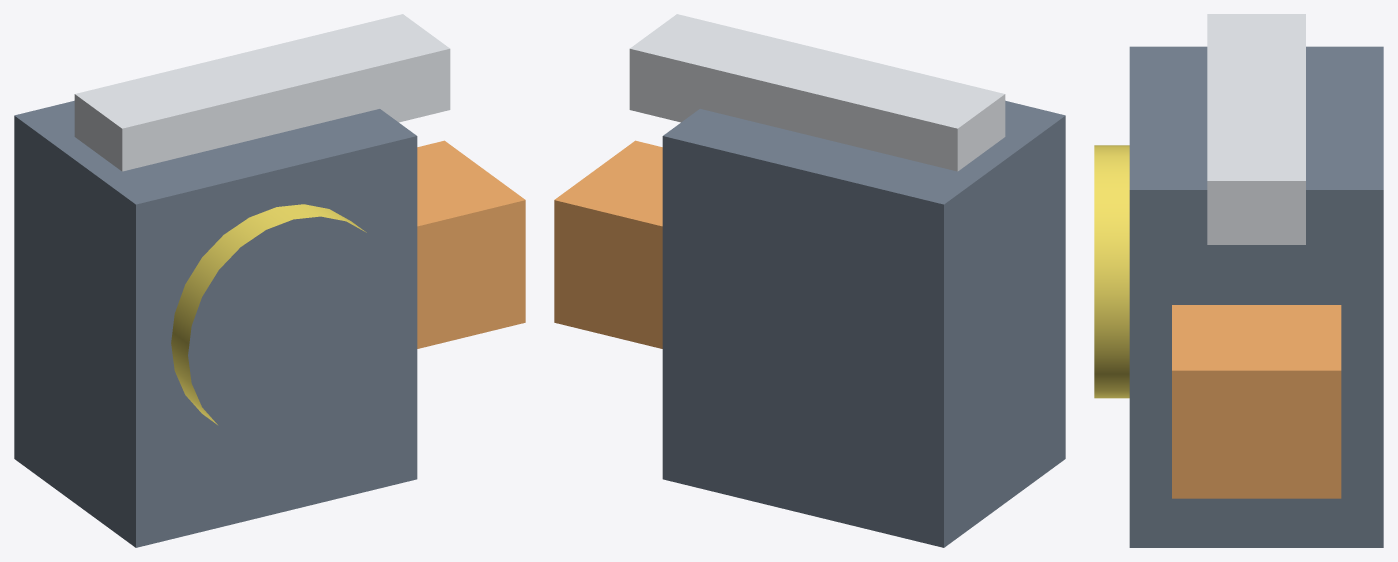
The model's file is shaper_slotter_machine.glb.
3 renders of one model, left to right at view 1: azimuth 30°, elevation 25°; view 2: azimuth 150°, elevation 25°; view 3: azimuth 270°, elevation 25°, orthographic. The views are drawn at different scales.
Visible parts, largest first — view 1: ShaperColumnMainBase, ReciprocatingToolRam, ShaperCrossfeedWorktable, QuickReturnBullGearDrive; view 2: ShaperColumnMainBase, ReciprocatingToolRam, ShaperCrossfeedWorktable; view 3: ShaperColumnMainBase, ShaperCrossfeedWorktable, ReciprocatingToolRam, QuickReturnBullGearDrive.
Boxes of the visible parts, left/top/right/bottom form: ShaperColumnMainBase: left=14, top=100, right=417, bottom=547; ReciprocatingToolRam: left=74, top=14, right=450, bottom=171; ShaperCrossfeedWorktable: left=417, top=140, right=525, bottom=348; QuickReturnBullGearDrive: left=171, top=204, right=366, bottom=424; ShaperColumnMainBase: left=662, top=100, right=1065, bottom=547; ReciprocatingToolRam: left=629, top=14, right=1005, bottom=171; ShaperCrossfeedWorktable: left=554, top=140, right=662, bottom=348; ShaperColumnMainBase: left=1129, top=46, right=1383, bottom=547; ShaperCrossfeedWorktable: left=1172, top=305, right=1341, bottom=498; ReciprocatingToolRam: left=1207, top=14, right=1305, bottom=244; QuickReturnBullGearDrive: left=1094, top=145, right=1129, bottom=398.
Bounding box in the file's own units: 1.75 × 1.57 × 1.02.
